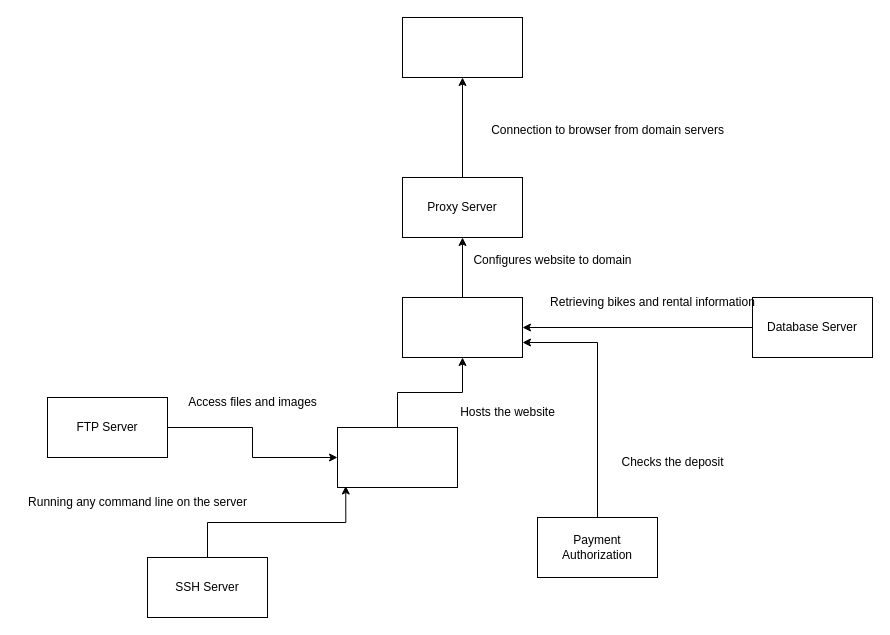
Some shapes in this 890 by 635 pixel diagram are drawn without their labels. The shapes that lost their labels are listed below. From the top down, each one's box as (x1, y1, x2, y2) in pixels, then its label:
(402, 16, 522, 78): Client Browser
(402, 296, 522, 358): Web Server
(336, 426, 458, 488): Linux Server
